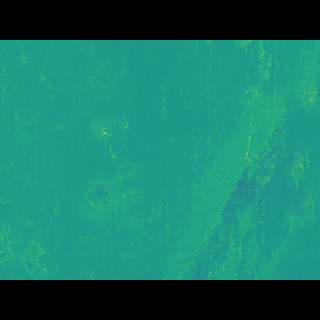Loch: (176, 72, 320, 248), (86, 125, 138, 201), (85, 84, 125, 106)
